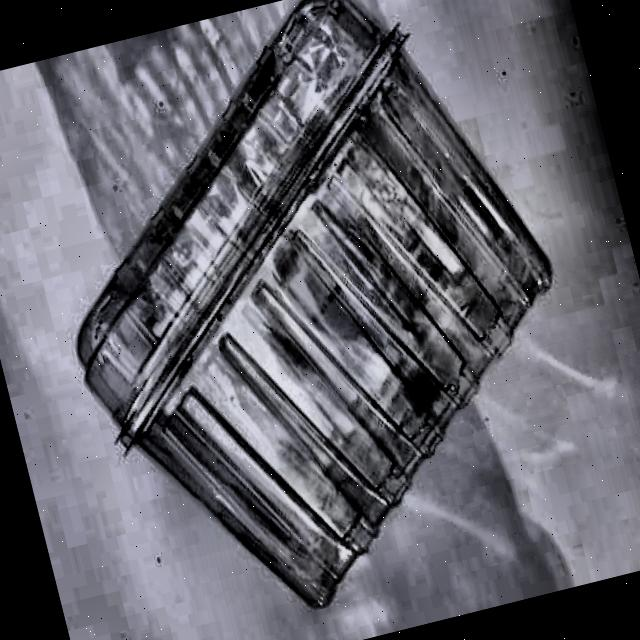plastic: (11, 0, 615, 640)
